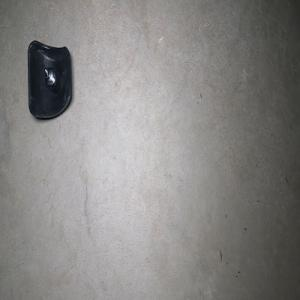LuggagePart: (26, 39, 72, 121)
